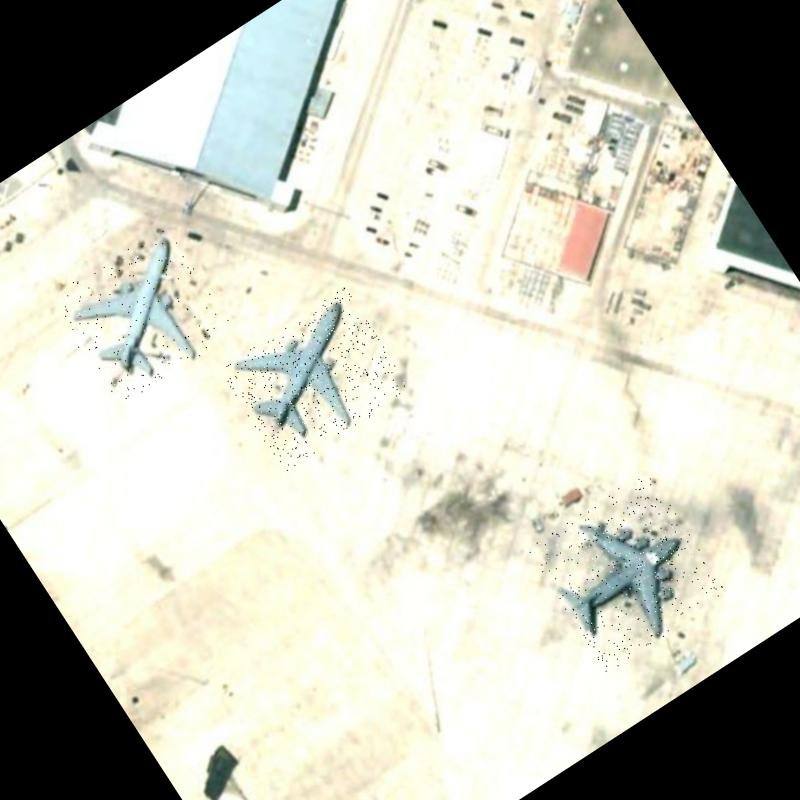A18: (46, 221, 238, 409), (218, 286, 412, 472)
A3: (526, 469, 729, 673)
